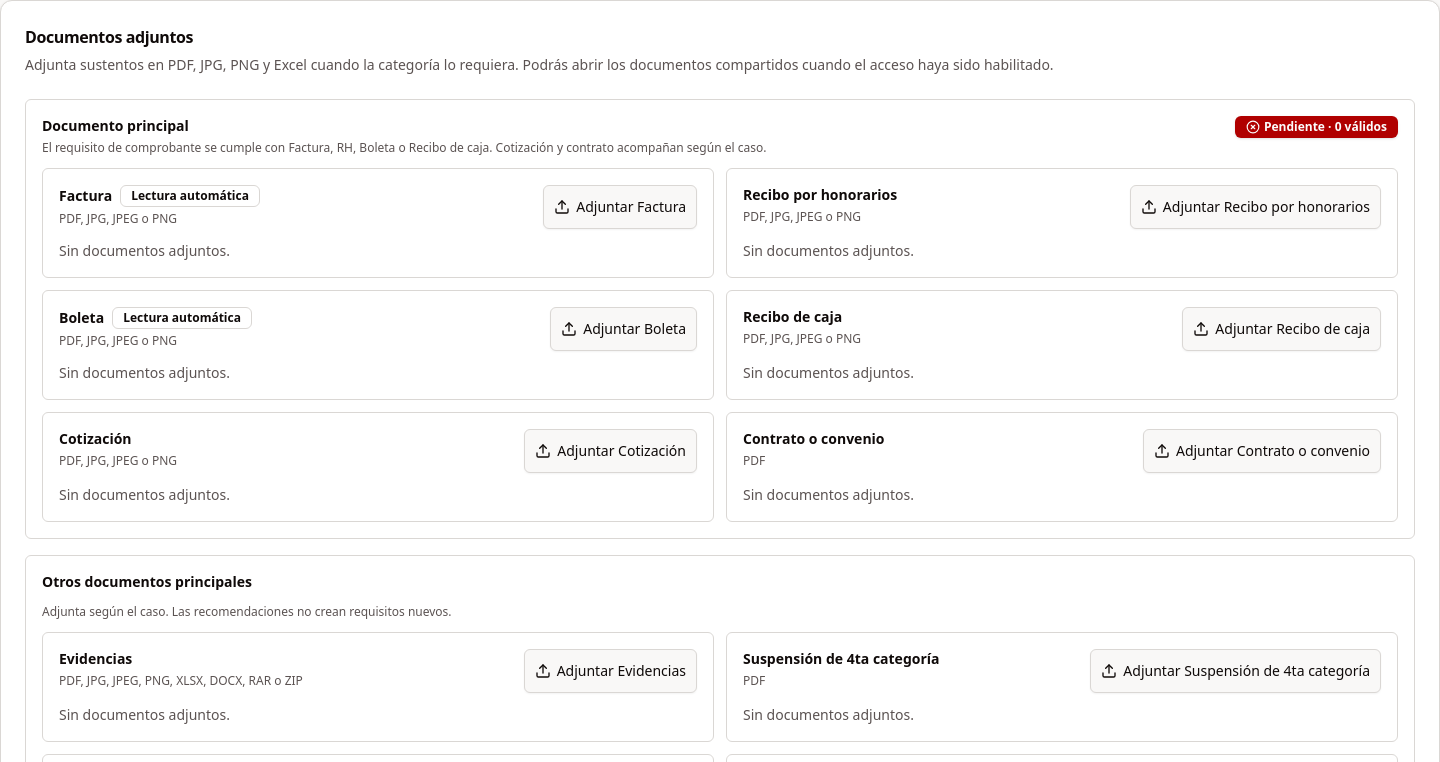
Scenario: RequestDocumentsCard › amber invoice suggestions retain the explicit not-yet-issued condition and alternative wording
Click the button "Adjuntar Factura" at [620, 207], box [543,185,697,229]
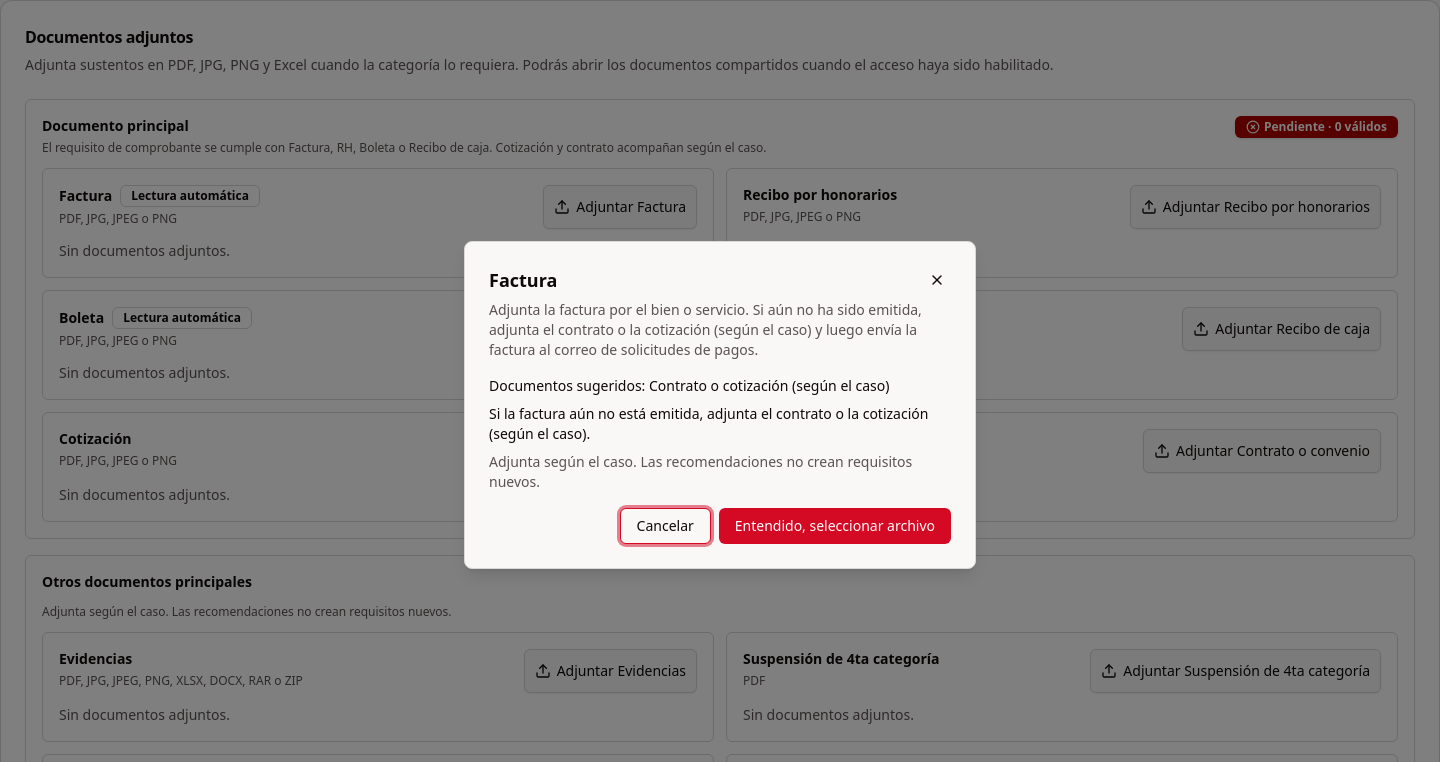
expect the text "Documento sugerido" is not shown: met
expect the dialog shows "Si la factura aún no está emitida": met, box [489,404,928,443]
Click the button "Entendido, seleccionar archivo" at [835, 526], box [719,508,951,544]
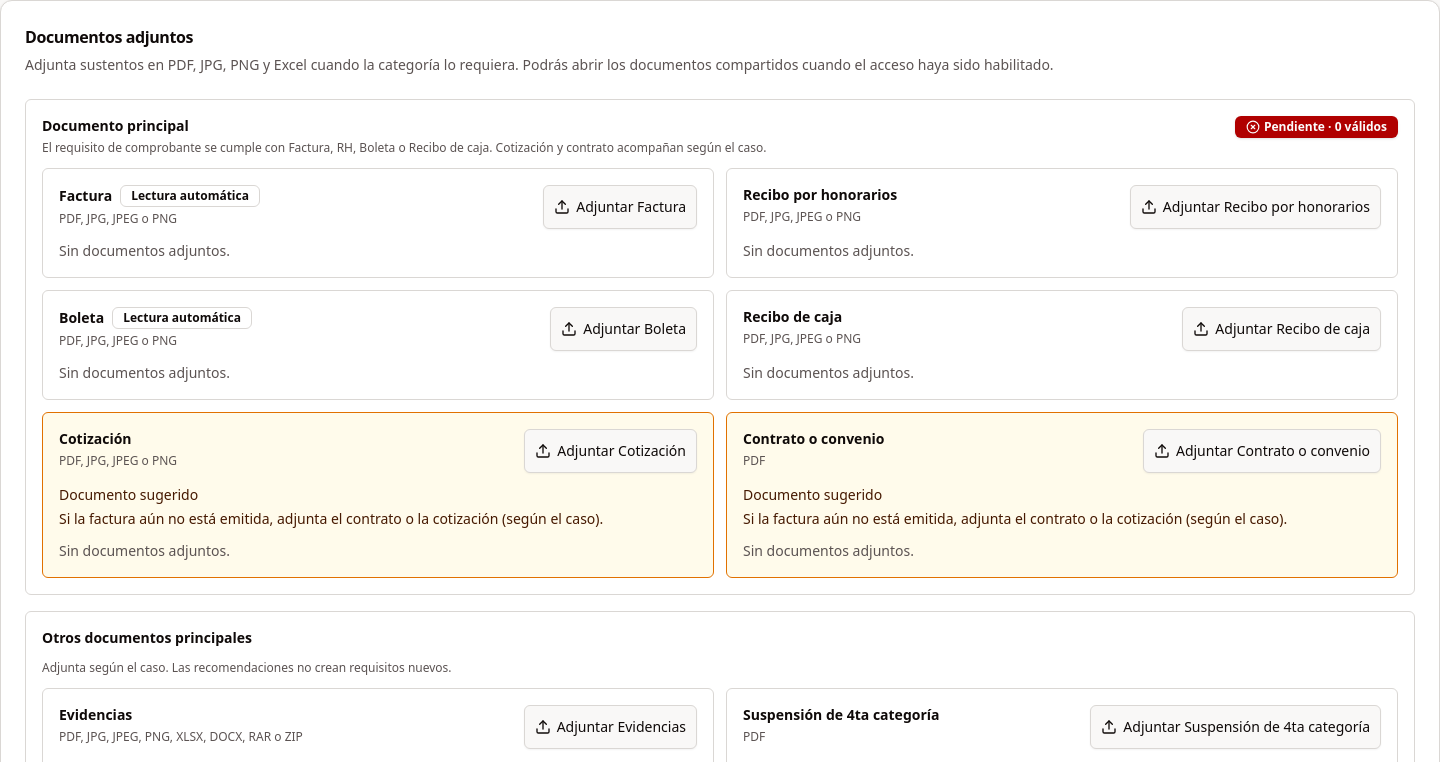
expect the element with test id "supplier-category-CONTRACT" shows "Si la factura aún no está emitida, adjunta el contrato o la cotización (según el caso).": met, box [743,509,1287,528]
